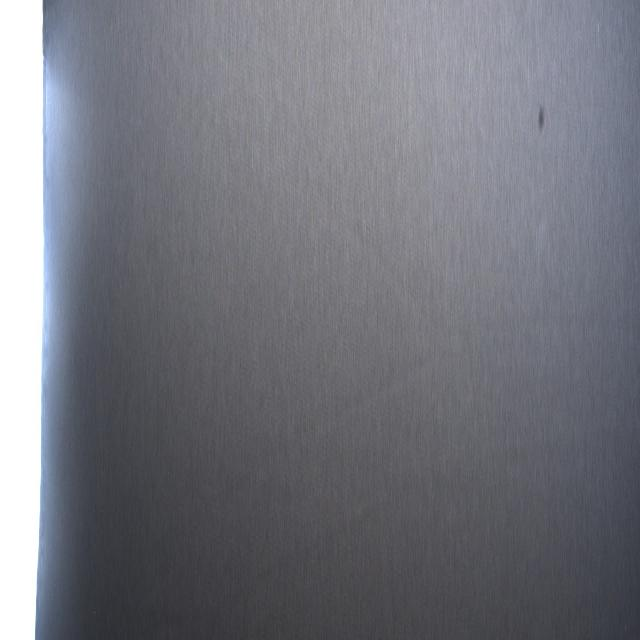crease: (288, 99, 432, 345), (229, 469, 410, 640), (300, 337, 433, 459)
